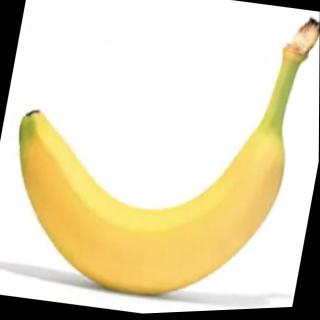banana: (0, 84, 294, 320)
